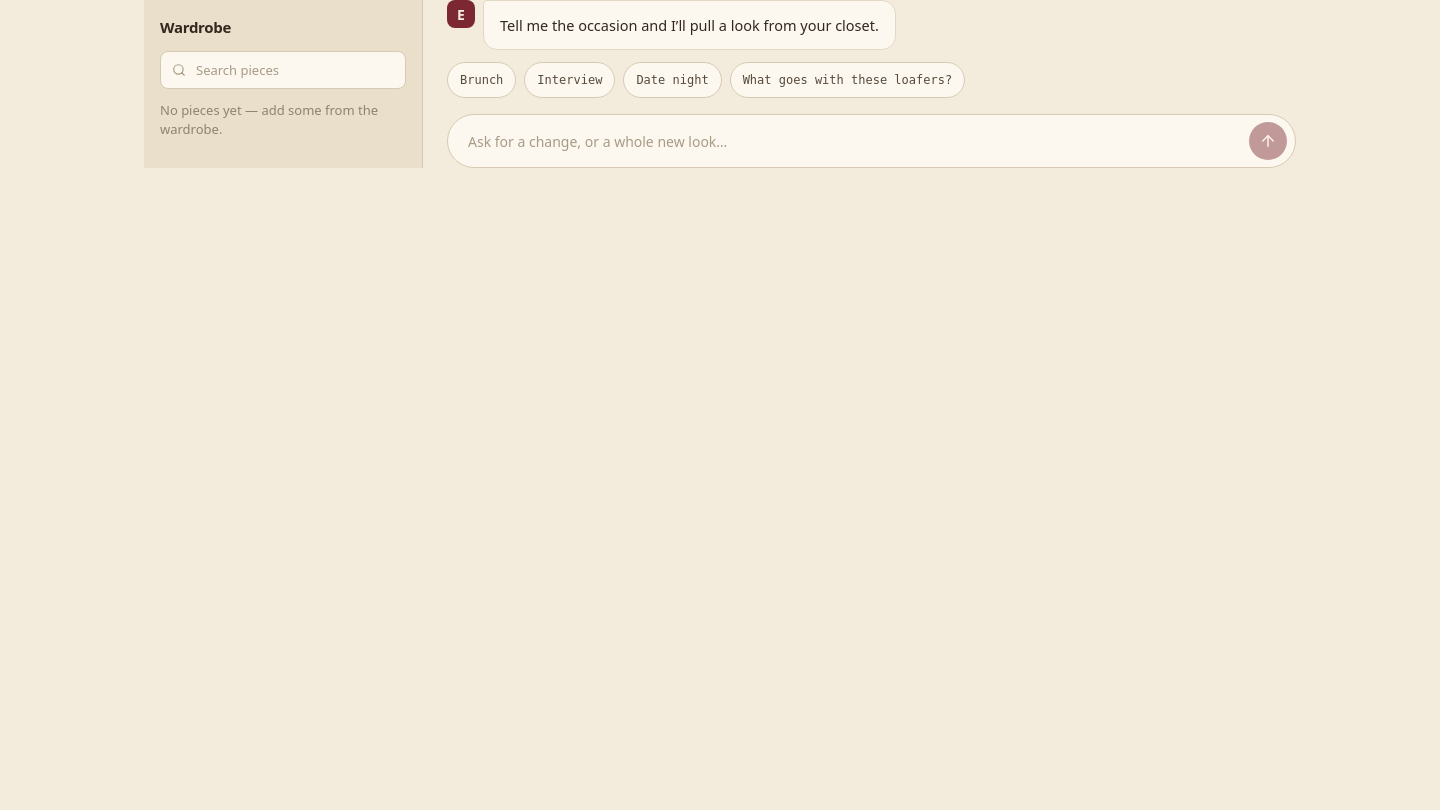
Test case: Stylist route › re-picks on composer pushback: POSTs the feedback with the prior thread
Type "streetwear today" into the field named "message the stylist".
click(852, 142); type("streetwear today")  # box [466,131,1239,152]
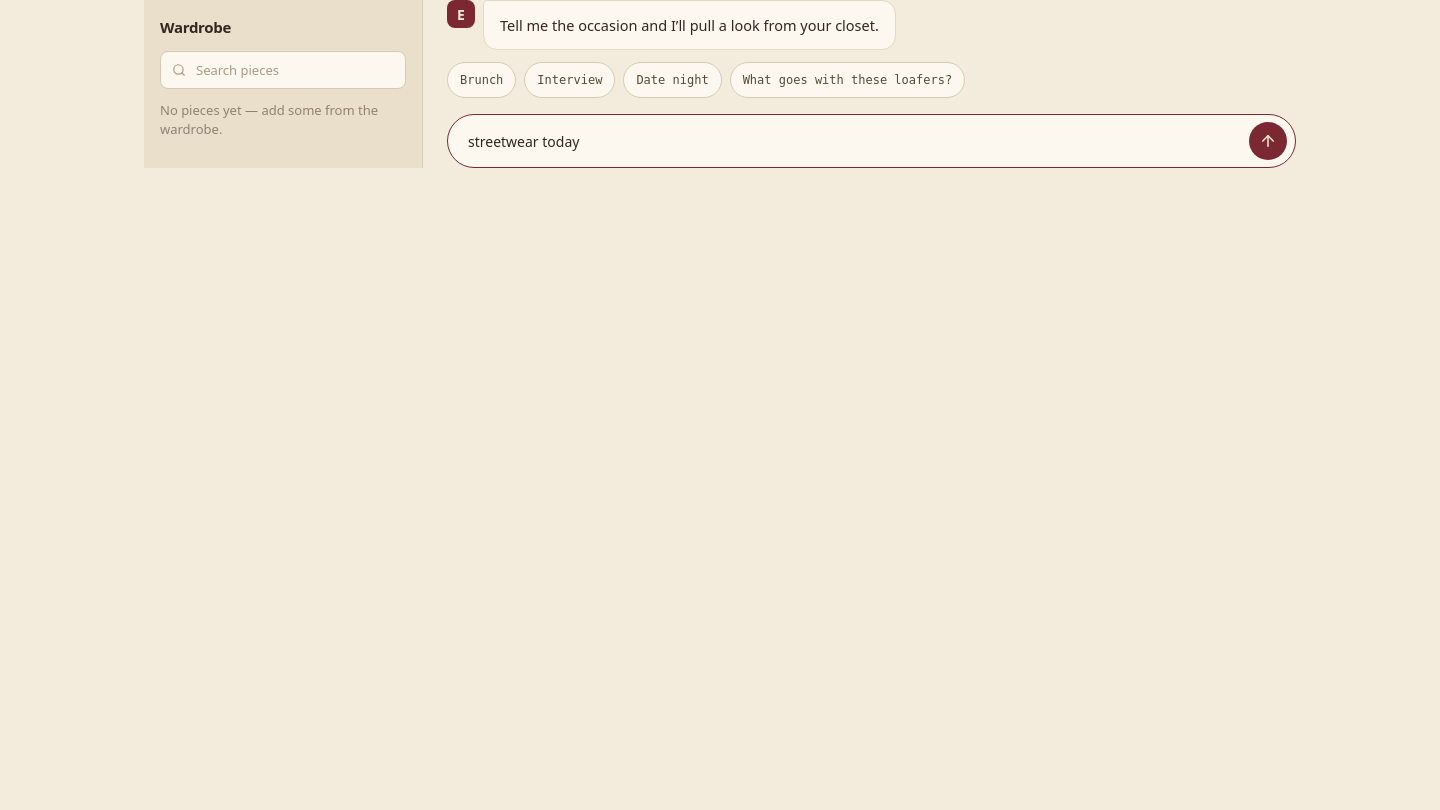
Click the button named "send".
click(1268, 142)  # box [1249,122,1287,160]
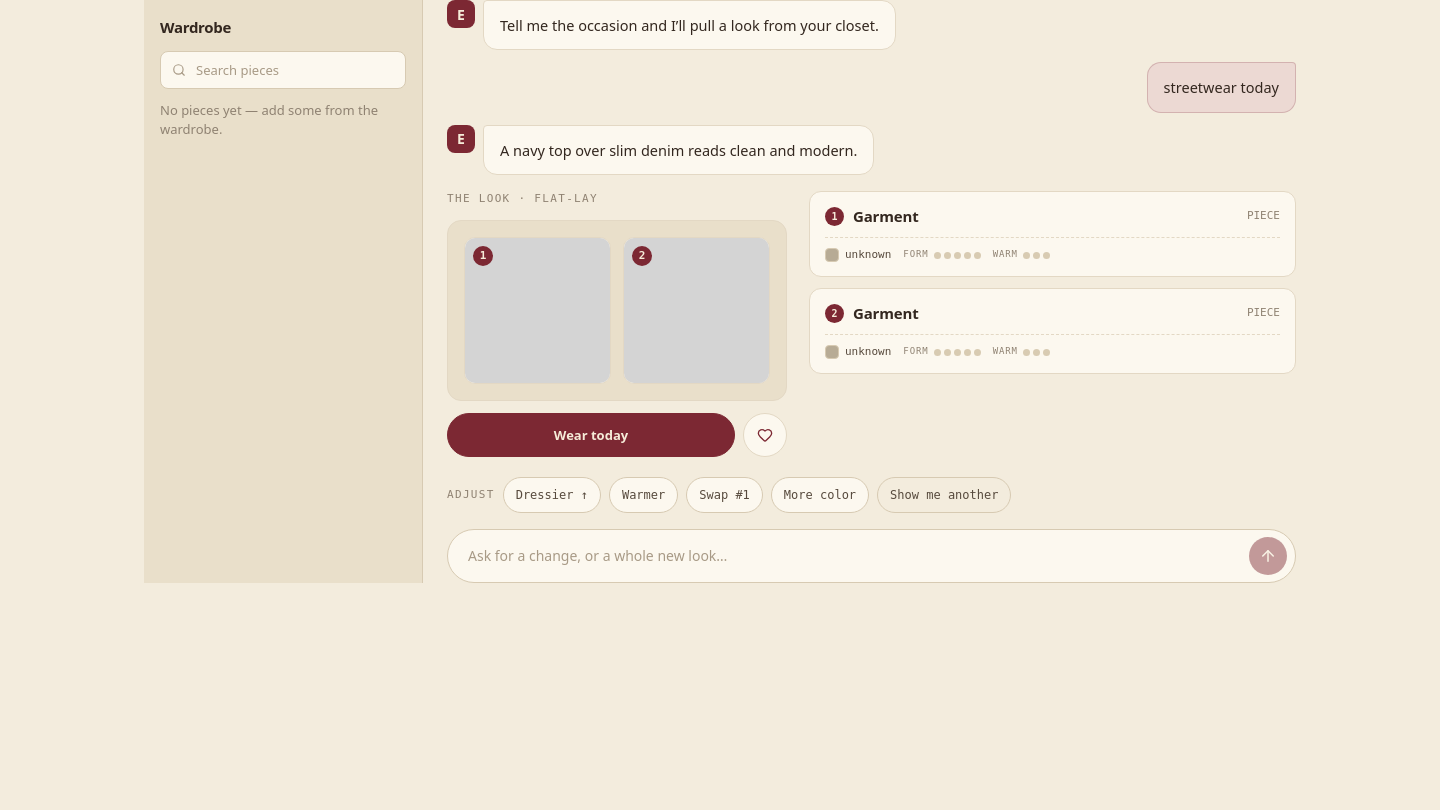
Now the text "A navy top over slim denim reads clean and modern." is shown, box [483,125,874,175]
Type "too plain" into the field named "message the stylist".
click(852, 556); type("too plain")  # box [466,545,1239,566]
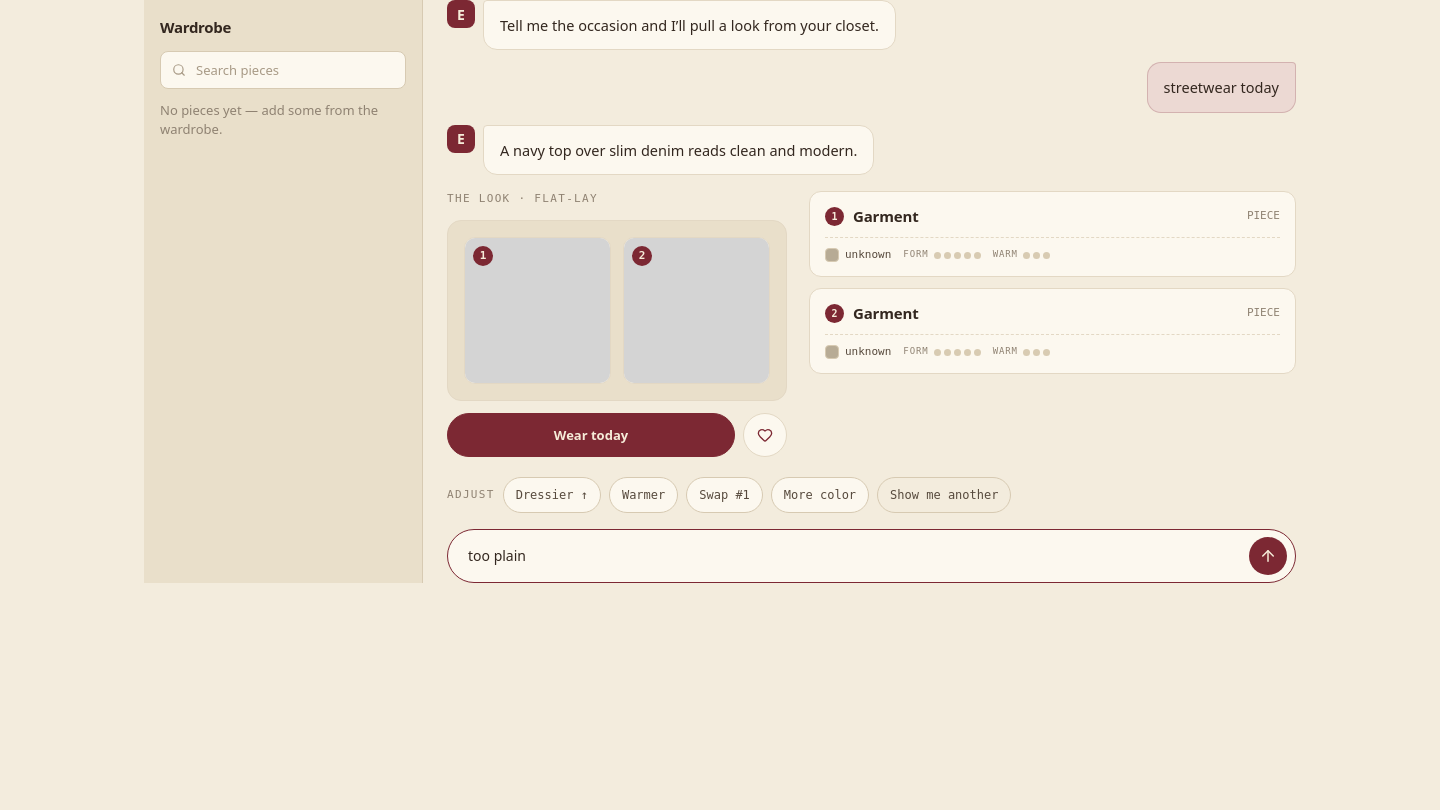
Click the button named "send".
click(1268, 556)  # box [1249,537,1287,575]
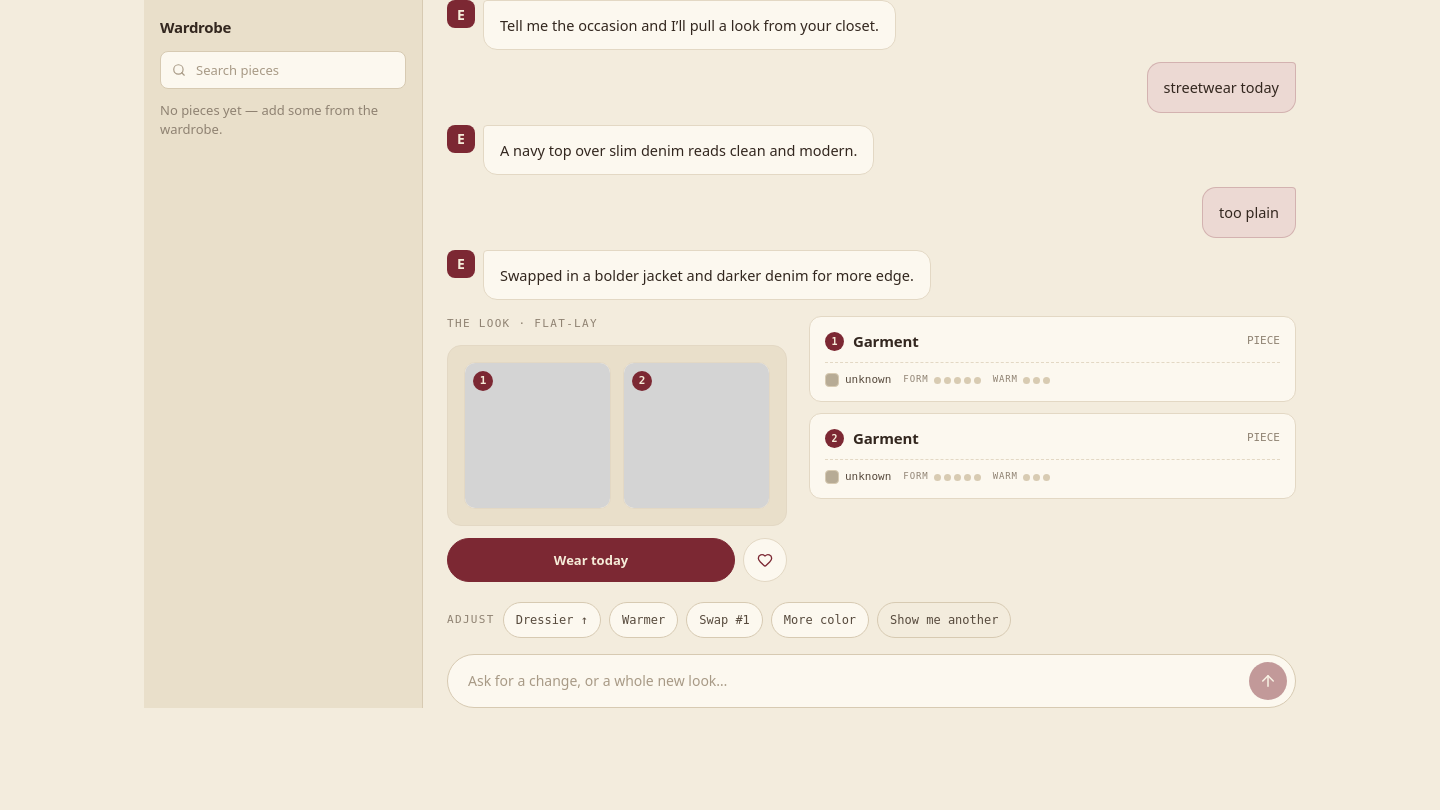
Now the text "Swapped in a bolder jacket and darker denim for more edge." is shown, box [483,250,931,300]
